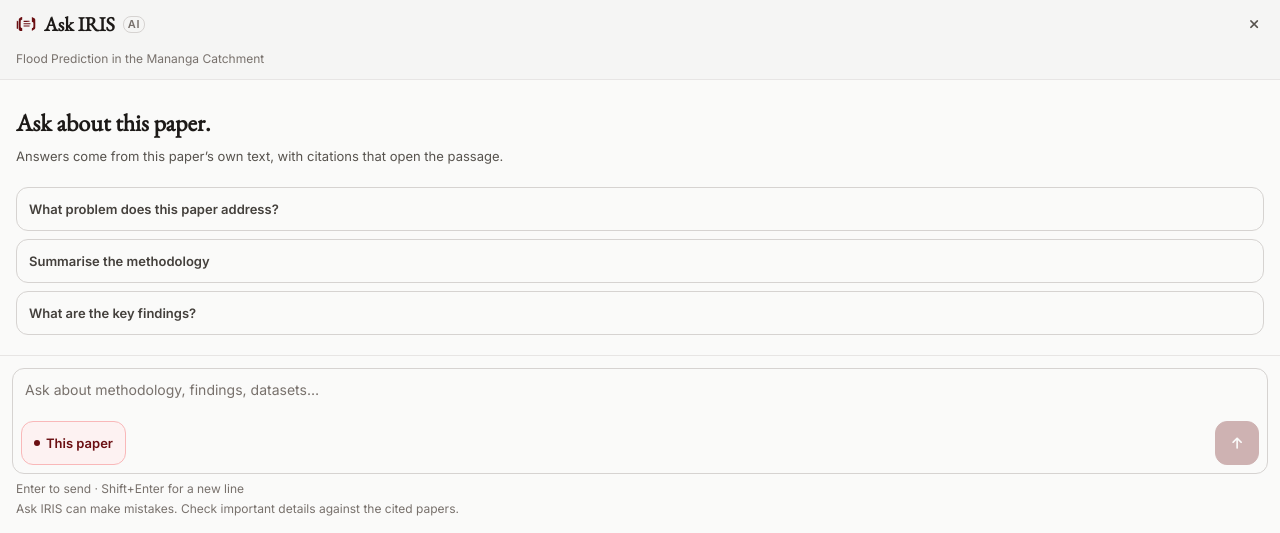
Test: Paper Chat opens or continues a Conversation scoped to the Record › puts the throttled message in the announced transcript
The width and height of the screenshot is (1280, 533).
Type "What datasets were used?" into the text box named "ask about this paper" at (640, 395), box [13, 369, 1267, 421]
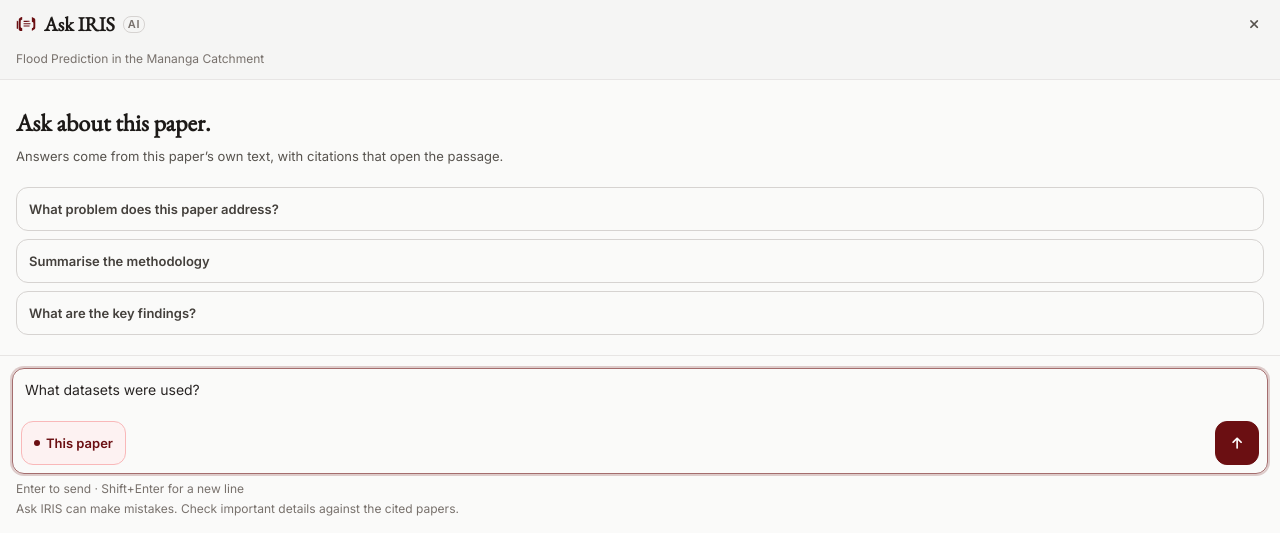
Click the button named "send" at (1237, 443), box [1215, 421, 1259, 465]
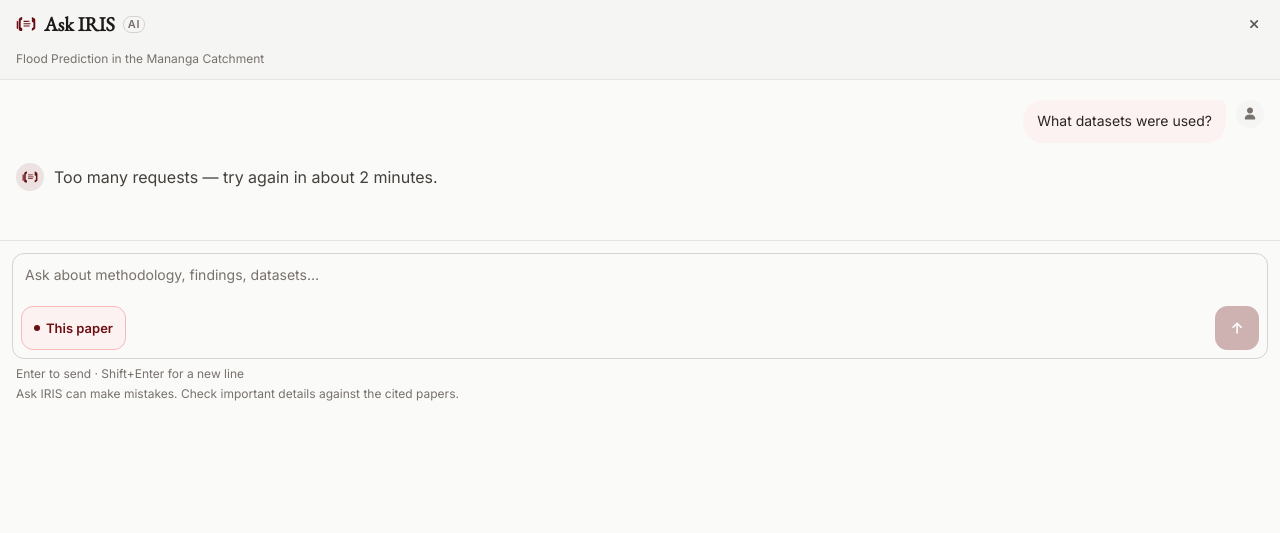
Now the text "Too many requests — try again in about 2 minutes." is shown, box [54, 167, 438, 187]
